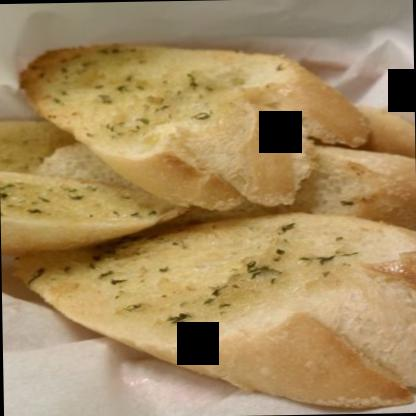toast bread: (25, 212, 415, 415), (14, 40, 362, 213)
